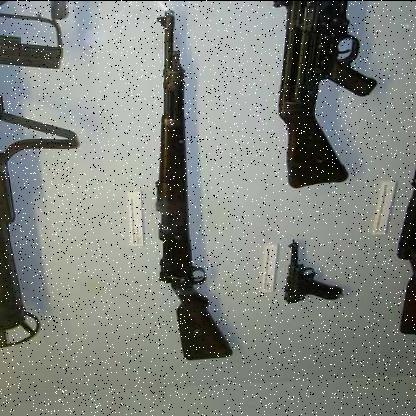rifle: (104, 4, 251, 363), (268, 1, 388, 195)
